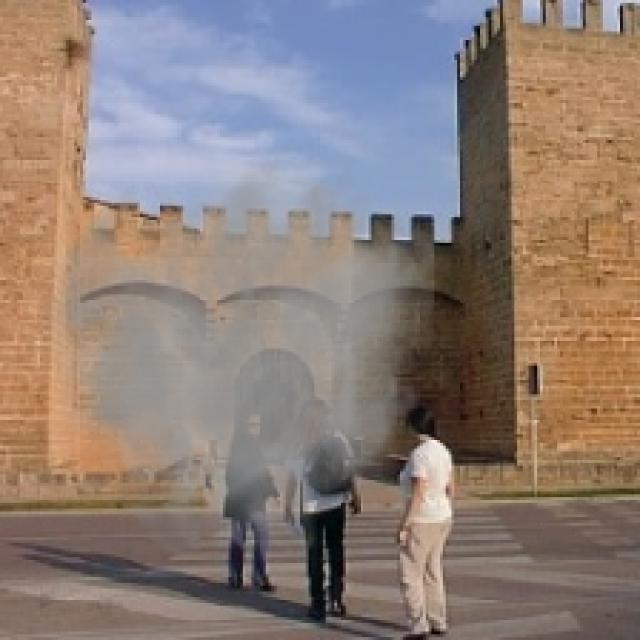smoke: (20, 148, 434, 566)
